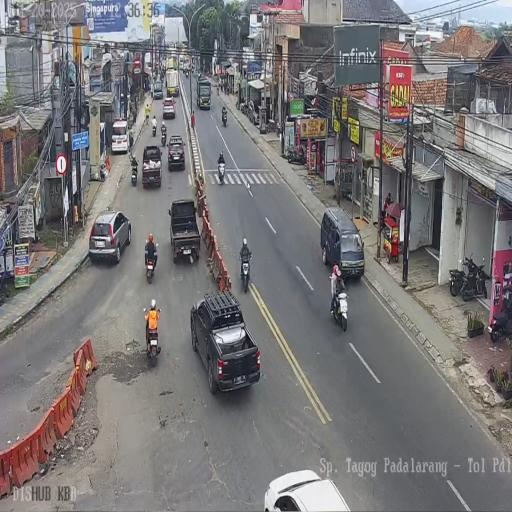3: (196, 75, 211, 110), (166, 69, 179, 98), (166, 54, 176, 72), (179, 54, 187, 72), (144, 52, 151, 72)
car: (190, 290, 260, 394), (264, 468, 353, 512), (320, 206, 363, 281), (88, 210, 132, 264), (168, 197, 201, 262), (142, 144, 163, 187), (167, 134, 186, 170), (111, 119, 129, 155), (162, 96, 176, 119), (152, 78, 163, 100)
truck: (460, 255, 489, 302), (489, 290, 512, 342), (143, 310, 161, 360), (330, 283, 348, 332), (239, 252, 252, 292), (449, 268, 466, 297), (286, 144, 306, 166), (145, 252, 155, 283), (217, 160, 225, 186), (130, 161, 138, 186), (240, 100, 248, 116), (222, 108, 228, 126), (160, 128, 166, 146), (276, 120, 281, 138), (152, 119, 157, 137), (186, 69, 189, 79)
